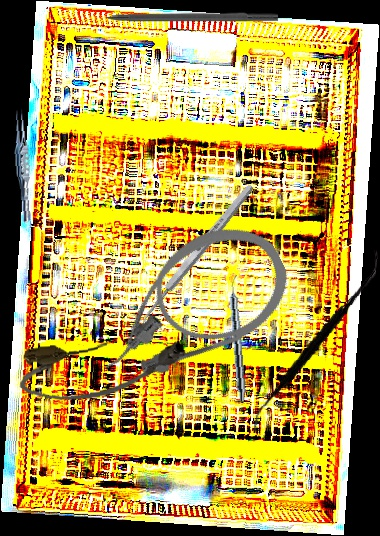Cannula: (71, 207, 306, 402), (16, 331, 191, 407)
Handpiece: (226, 274, 250, 402)
Hook Surgical: (84, 11, 278, 22)
Spatula Surgical: (251, 239, 379, 444)
Surgical Spoon: (128, 182, 256, 336)
Tissue Forceps: (10, 107, 36, 224)
